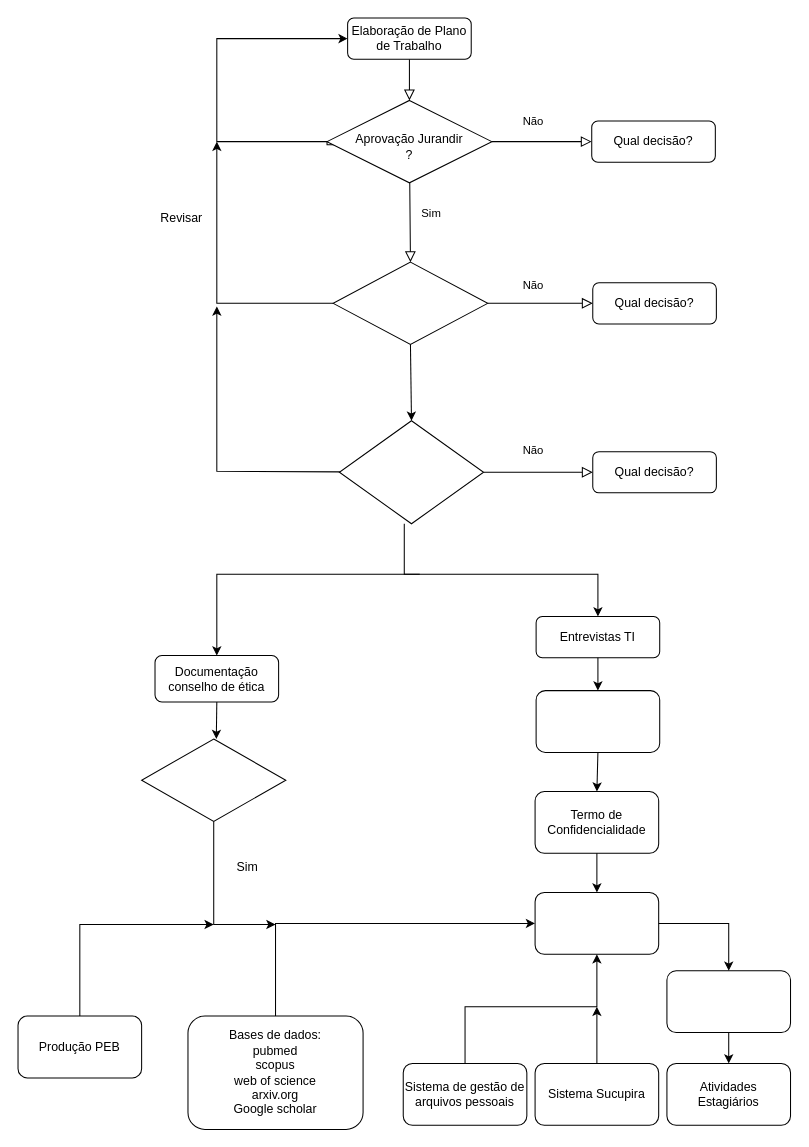
Image size: 809x1147. Some labels were removed from this diagram. Here are the shapes that lost their labels. From the top down, the centre of each, then its label:
At pixel 410 303: "Colegiado PEB ?".
At pixel 411 472: "Coordenação da COPPE ?".
At pixel 597 721: "Seleção Estagiários".
At pixel 213 779: "Formulários Aprovado ?".
At pixel 596 922: "Requisitos Algoritmo".
At pixel 728 1001: "GAPs".
